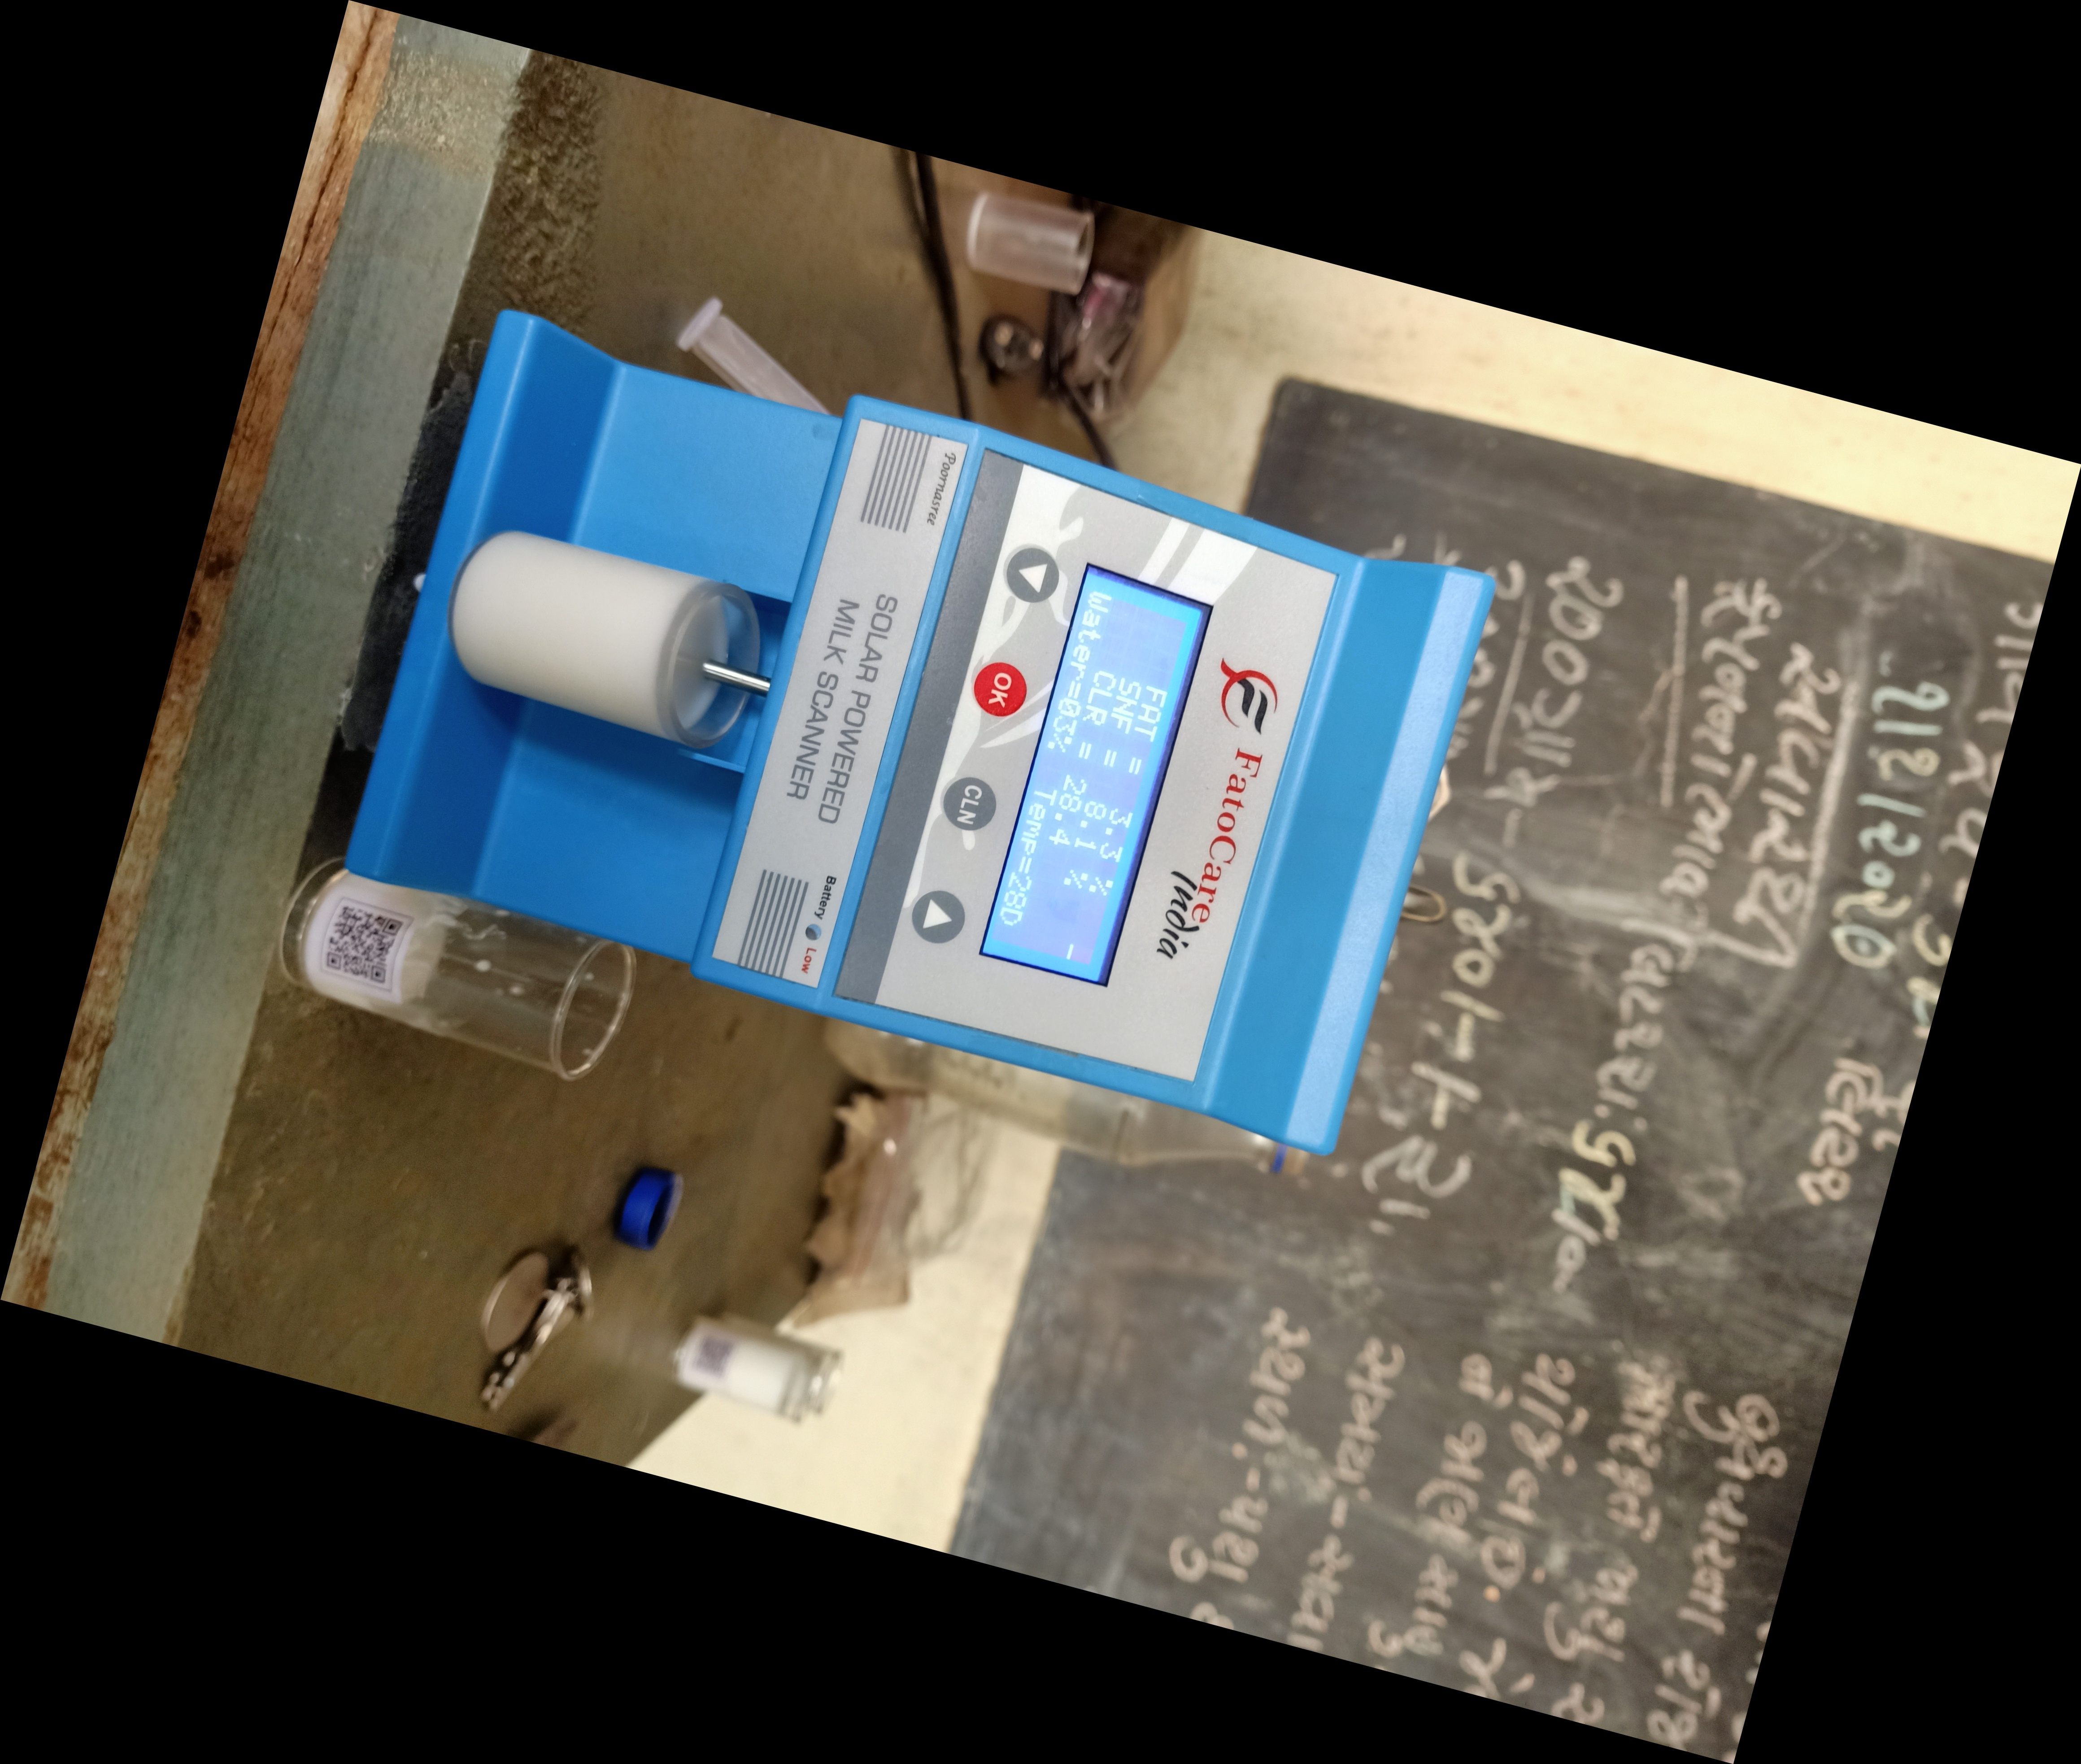lcd: (961, 548, 1227, 996)
qr: (301, 887, 417, 1008)
